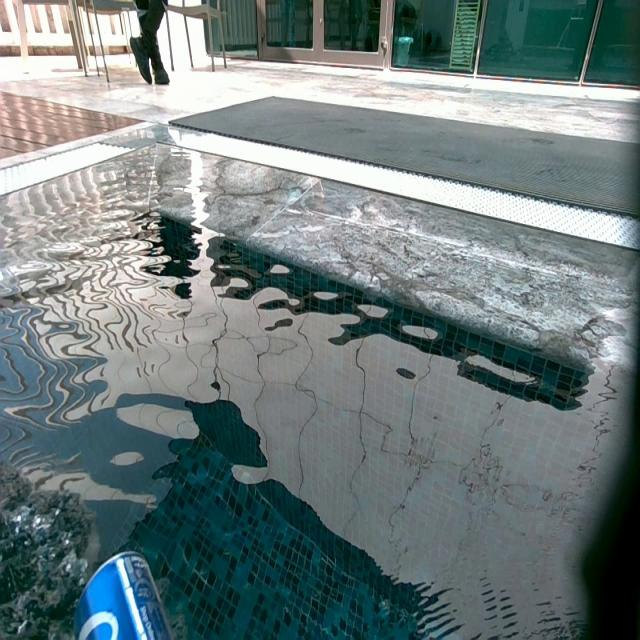Cans: (70, 549, 175, 637)
